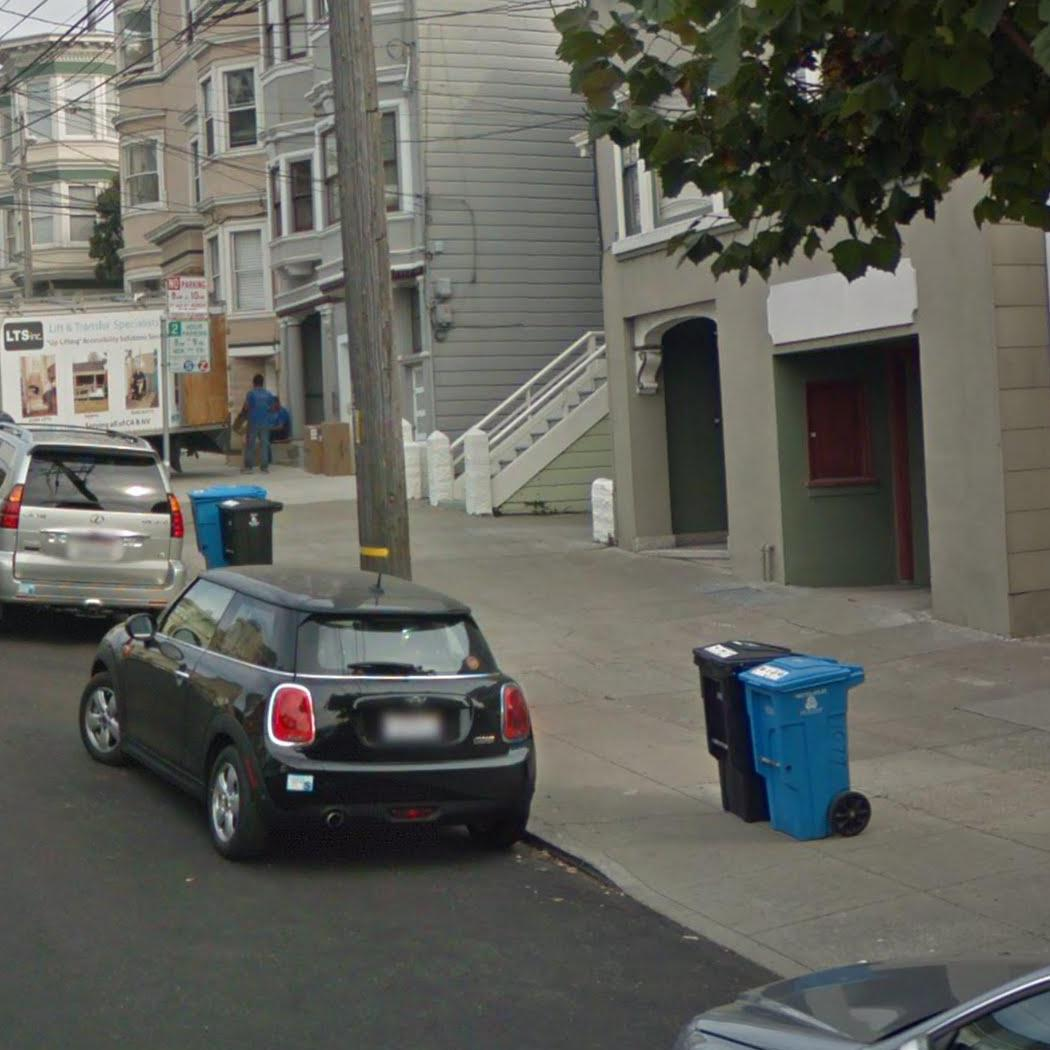2 Hour Parking: (164, 319, 212, 374)
No Parking: (164, 275, 210, 318)
